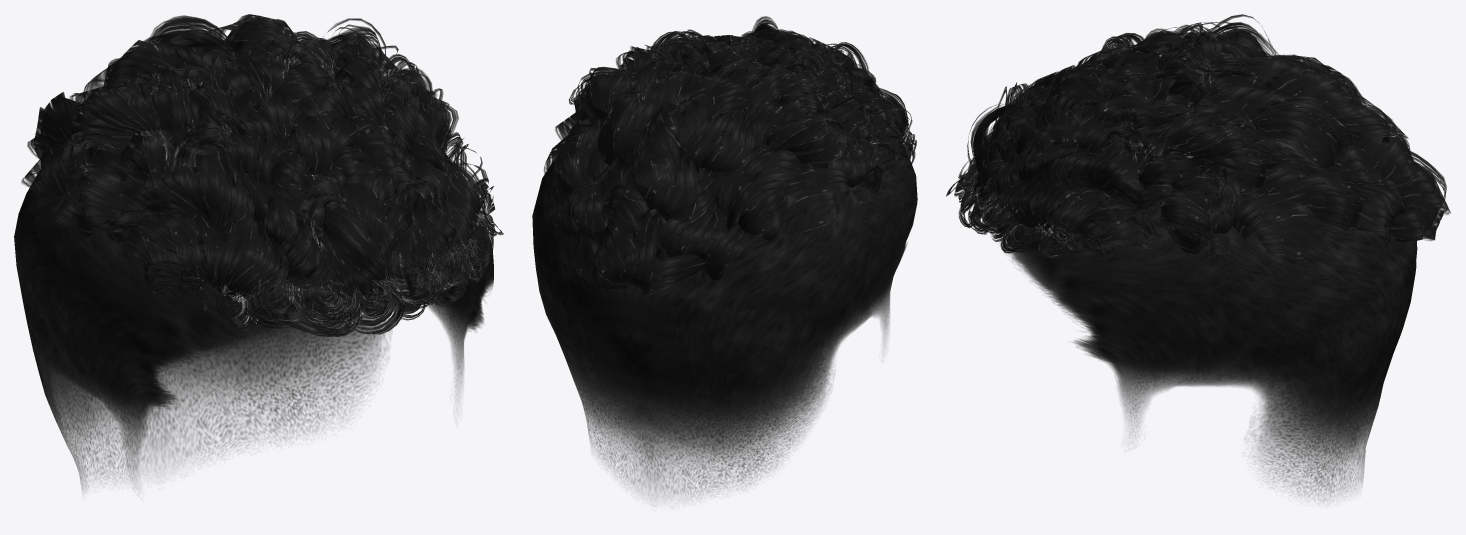
File: ShortTapered.glb
3 views of the same model, side by side, from view 1: azimuth 30°, elevation 25°; view 2: azimuth 150°, elevation 25°; view 3: azimuth 270°, elevation 25° (orthographic). The views are drawn at different scales.
Visible parts, largest first — view 1: CURLY_UNDERCUT.001, Scalp FRINGE; view 2: Scalp FRINGE, CURLY_UNDERCUT.001; view 3: CURLY_UNDERCUT.001, Scalp FRINGE.
Boxes of the visible parts, x1,y1,x2,y2 form: CURLY_UNDERCUT.001: (21,14,503,336); Scalp FRINGE: (14,97,493,491); Scalp FRINGE: (532,73,917,498); CURLY_UNDERCUT.001: (544,16,916,294); CURLY_UNDERCUT.001: (946,14,1450,258); Scalp FRINGE: (986,94,1417,501).
Size of the model in its own units: 0.1986 by 0.2583 by 0.2618.
2 materials, 2 textured.
